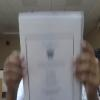notebook: (18, 10, 84, 99)
